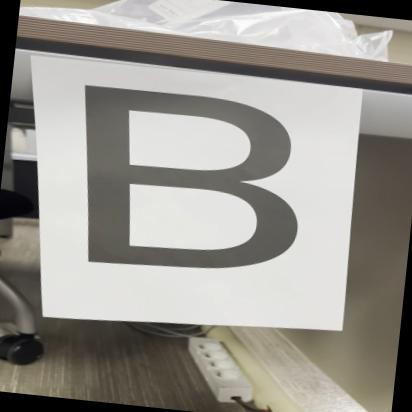seat: (52, 80, 330, 298)
